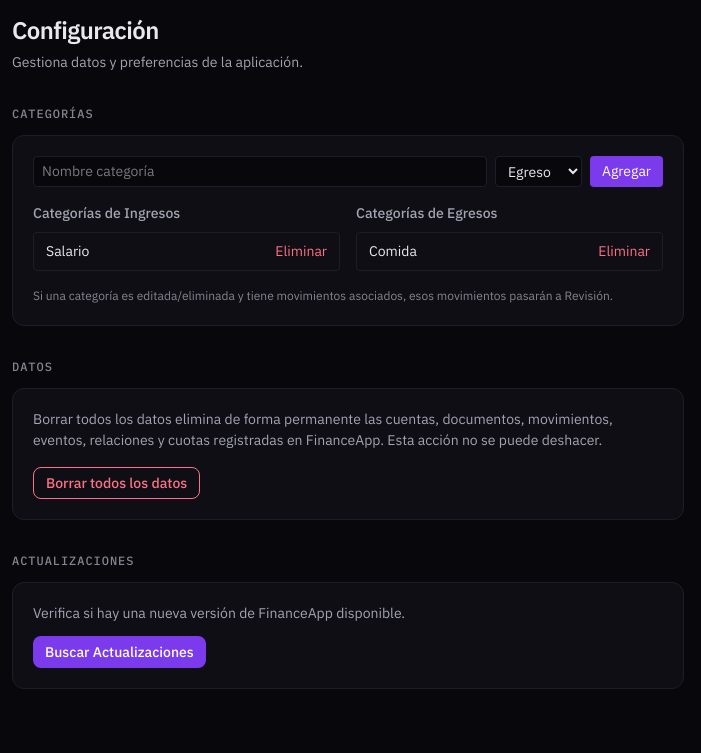
Scenario: SettingsPage › creates a category through the api and shows it
Expected: the text "Comida" is shown, [369, 241, 417, 262]
In the field with placeholder "Nombre categoría": (260, 172) [33, 156, 487, 187], type "Transporte"
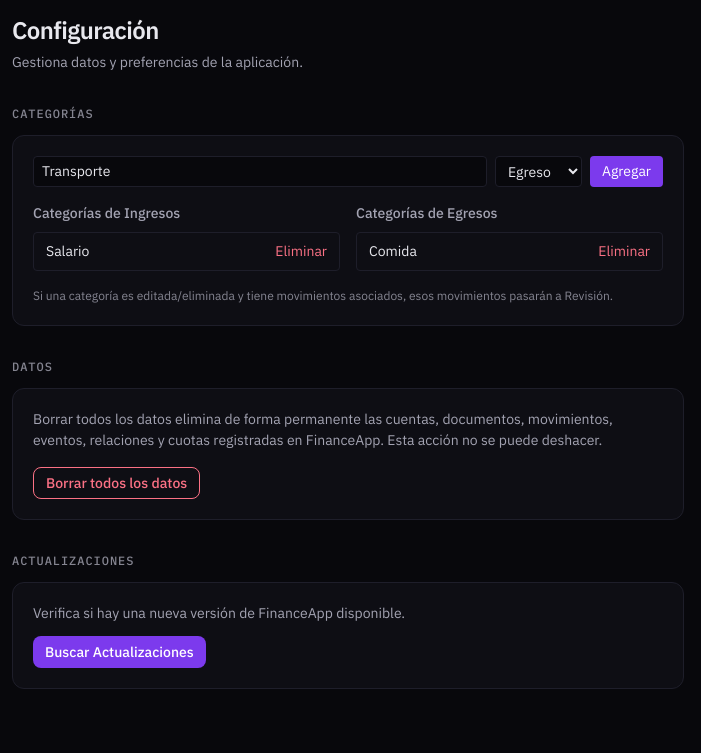
Click the button "Agregar": (626, 172) [590, 156, 663, 187]
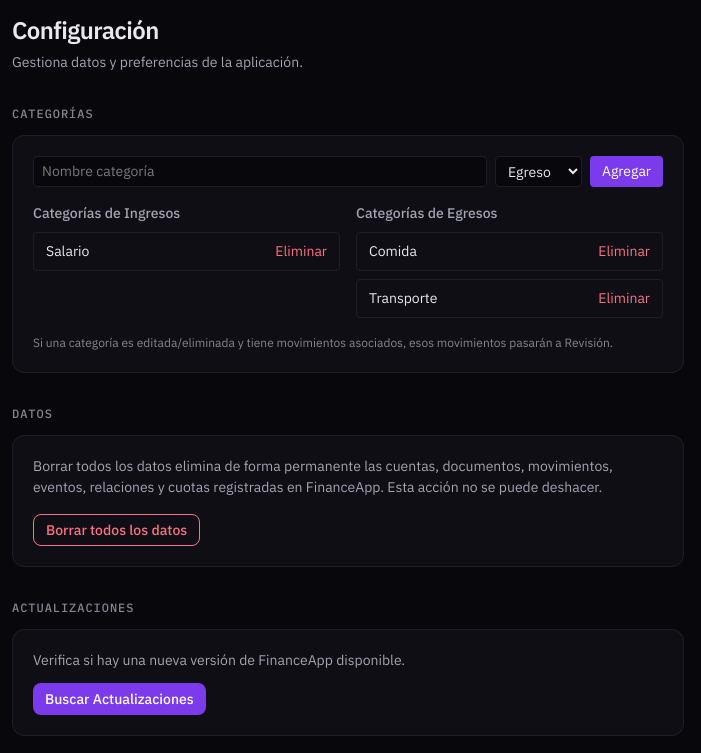
Expected: the text "Transporte" is shown, [369, 288, 437, 309]
